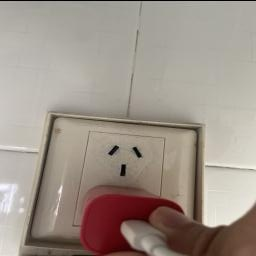outlet: (29, 101, 209, 256)
